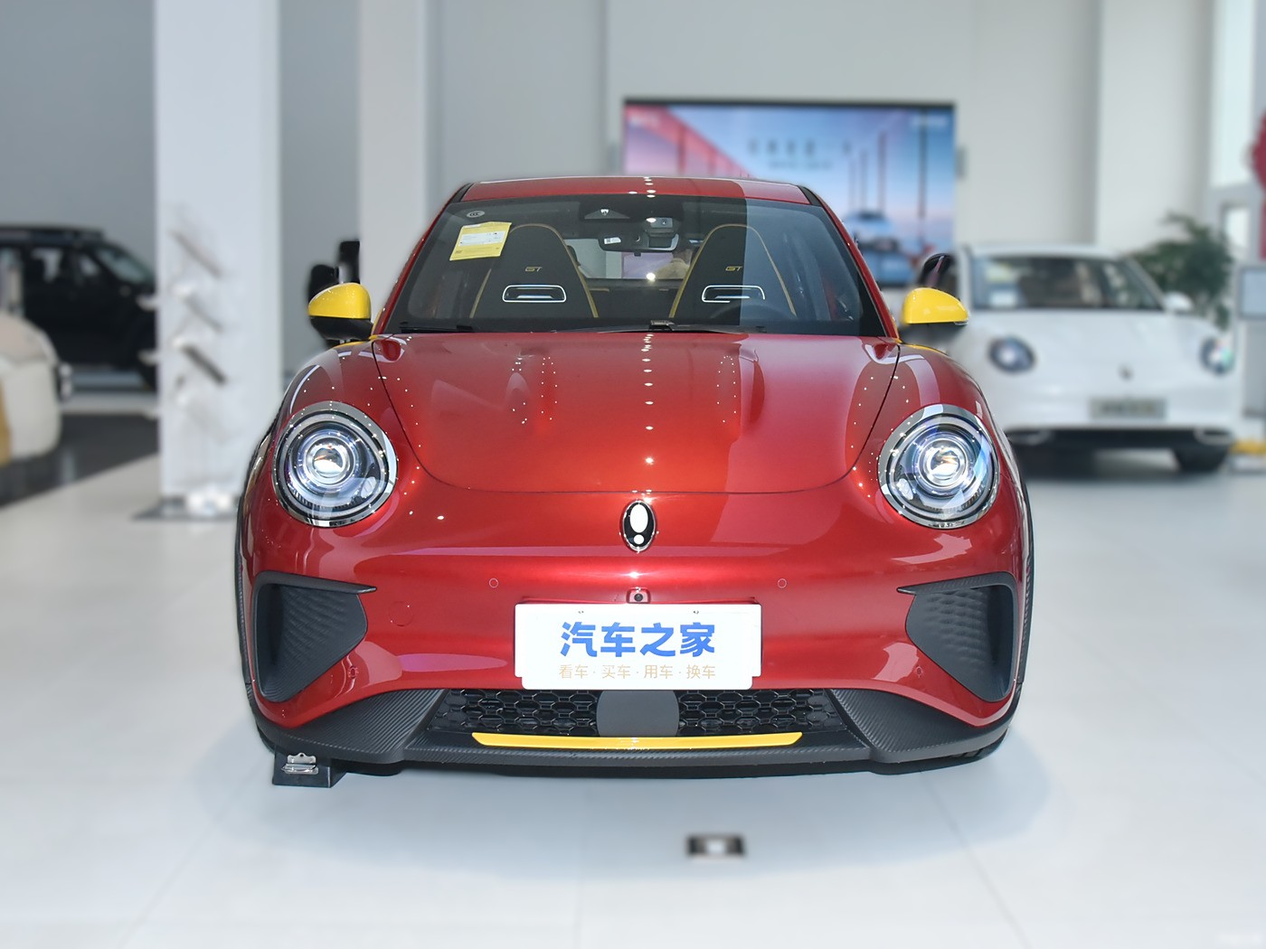ORA: (623, 502, 655, 551)
